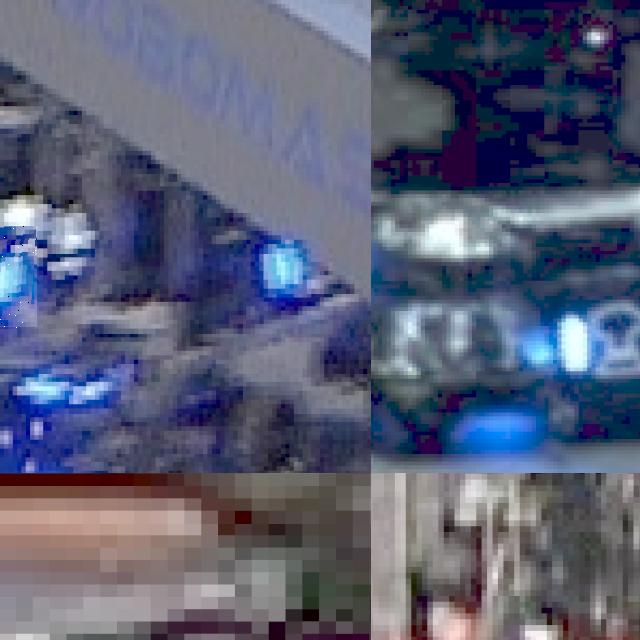B2: (0, 226, 36, 328)
Bs: (557, 303, 640, 374)
R1: (435, 590, 640, 640)
